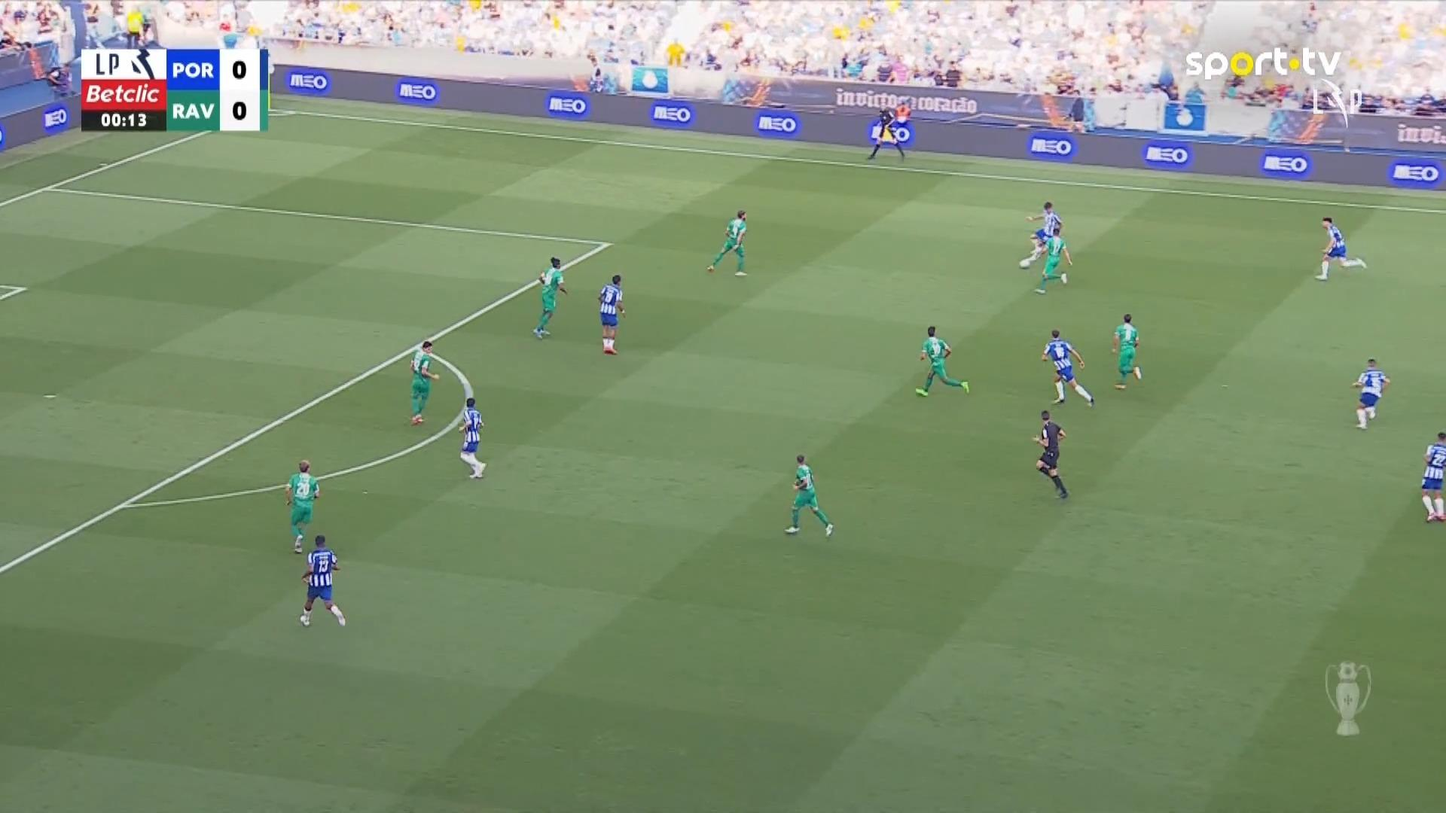ball: (1018, 258, 1030, 269)
player: (298, 534, 346, 627), (783, 452, 834, 538), (1040, 327, 1094, 407), (914, 324, 969, 397), (1313, 215, 1366, 280), (284, 458, 320, 553), (705, 209, 748, 276), (532, 256, 567, 338), (1350, 358, 1390, 429), (408, 340, 440, 425), (1033, 229, 1072, 294), (1023, 199, 1062, 264), (456, 396, 486, 479), (1110, 312, 1142, 388), (1419, 430, 1444, 522), (597, 273, 625, 354), (1017, 228, 1049, 269)
referee: (1031, 409, 1069, 499), (866, 106, 905, 160)
